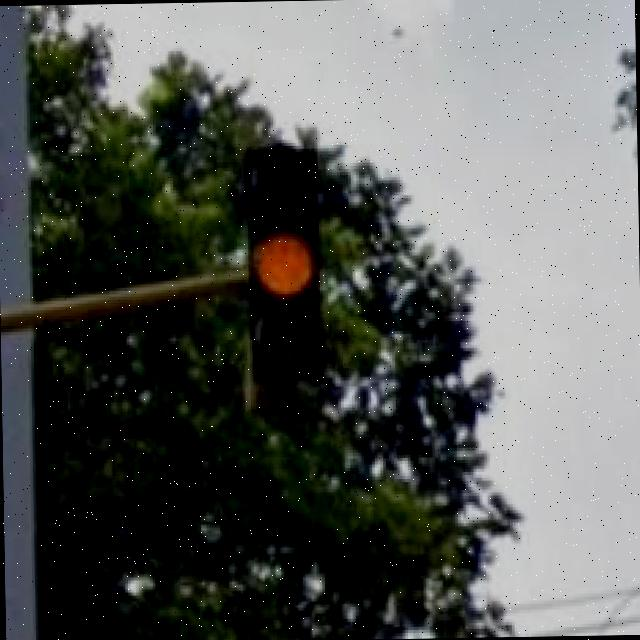Zolte swiatlo: (243, 145, 327, 385)
